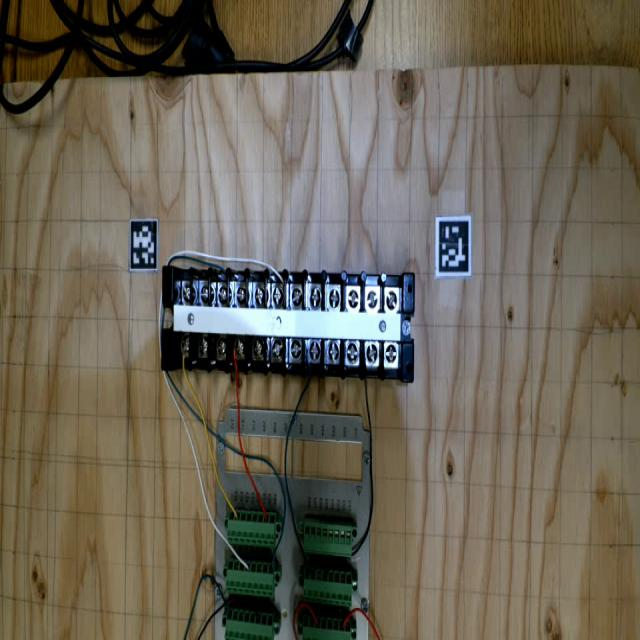Phillips_Block: (158, 262, 418, 382)
Terminal_2: (226, 509, 277, 548), (226, 560, 274, 598), (304, 569, 352, 607), (225, 607, 274, 640), (303, 615, 351, 639)
